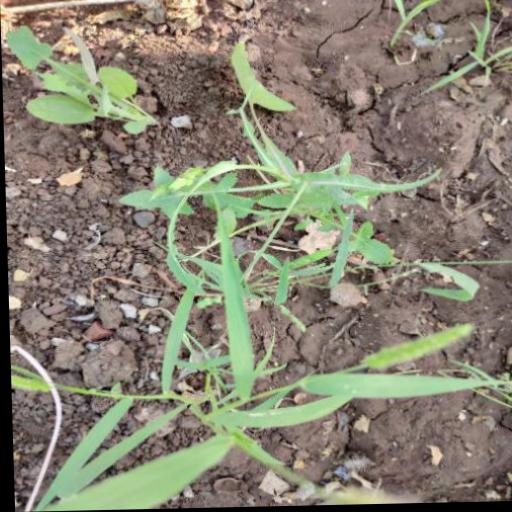weed: (13, 95, 494, 481)
